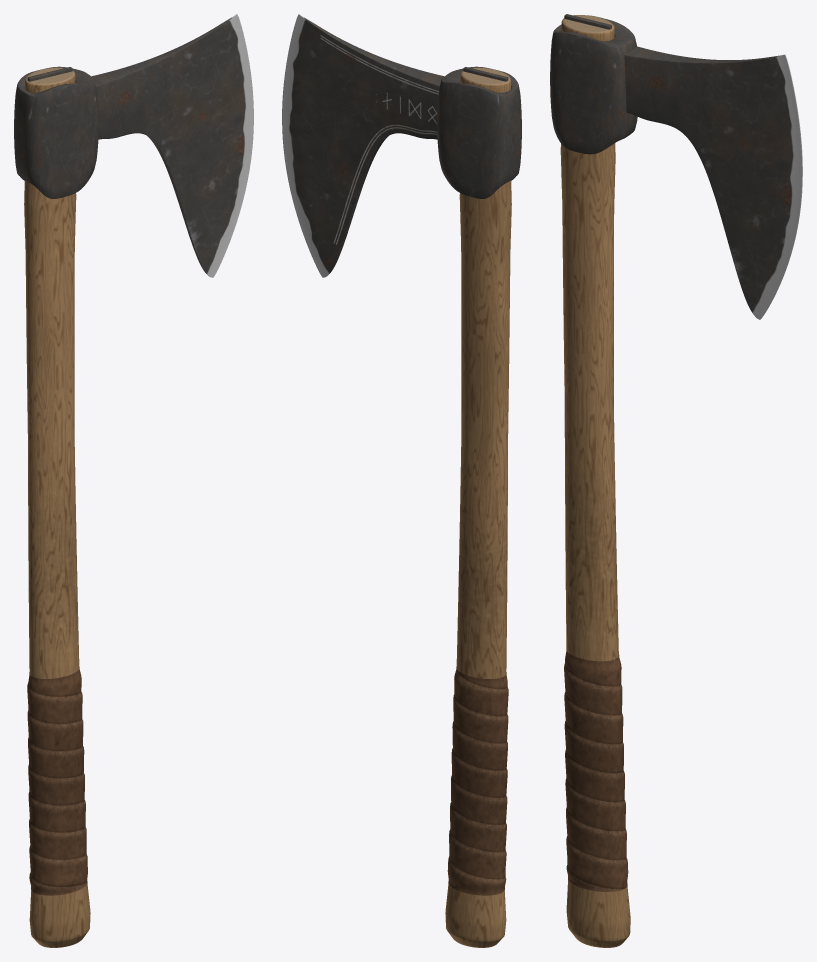
Rendered from norse_axe.glb.
The picture shows the model from 3 angles, left to right: view 1: azimuth 30°, elevation 25°; view 2: azimuth 150°, elevation 25°; view 3: azimuth 330°, elevation 25°; orthographic projection. The views are drawn at different scales.
Visible parts, largest first — view 1: NorseBeardedAxe; view 2: NorseBeardedAxe; view 3: NorseBeardedAxe.
Part boxes in pixels (bbox=[...]): NorseBeardedAxe: bbox=[14, 14, 253, 947]; NorseBeardedAxe: bbox=[282, 14, 521, 947]; NorseBeardedAxe: bbox=[550, 14, 802, 947].
Size of the model in its own units: 0.1976 by 0.714 by 0.0371.
Materials: 3 (3 with a texture image).
